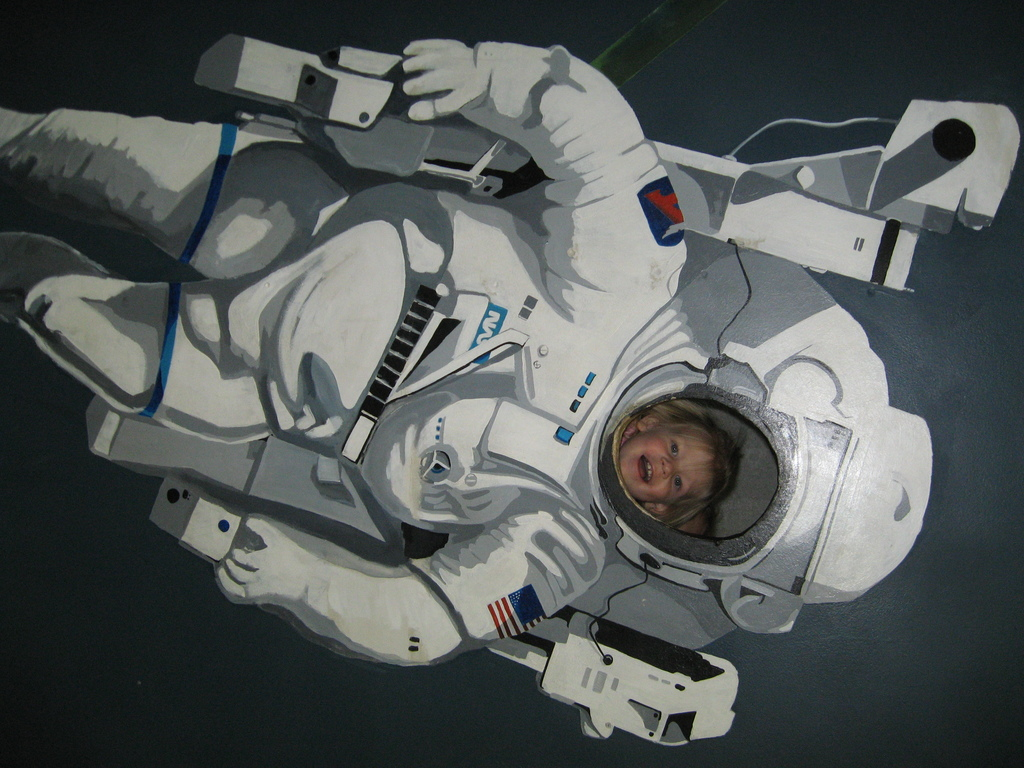Person: (0, 40, 934, 668)
